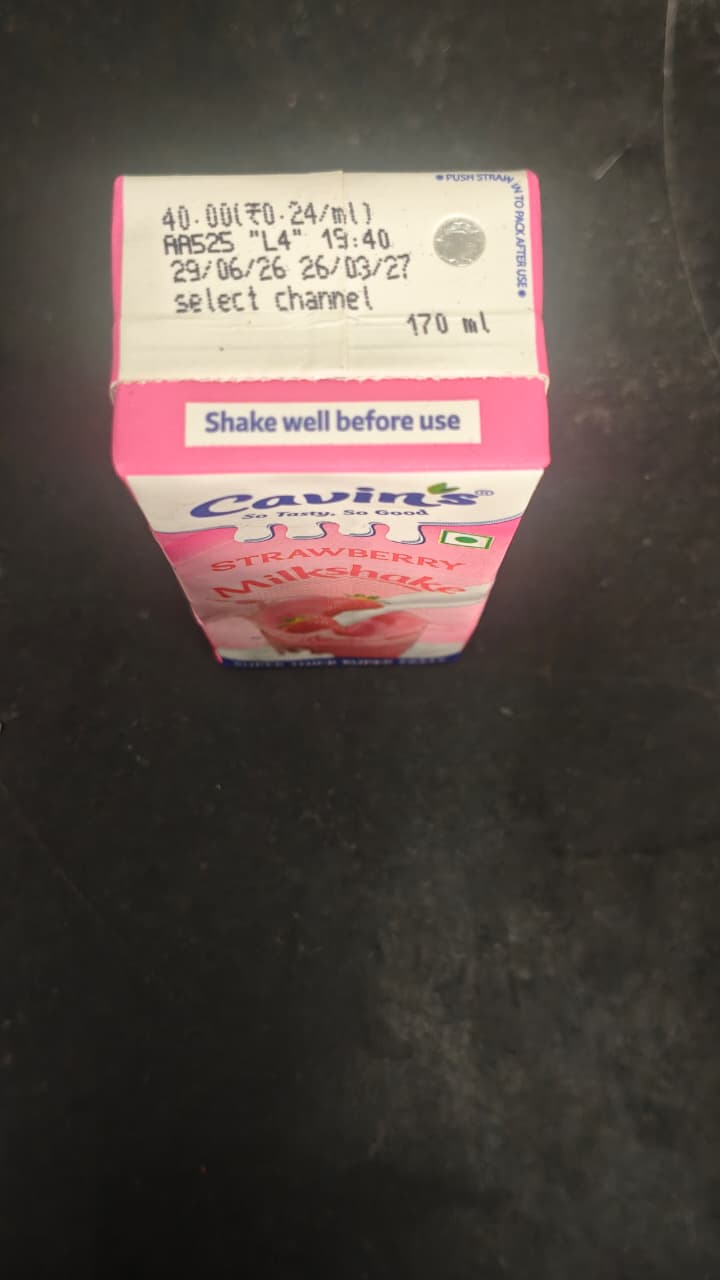Brand: (190, 486, 493, 522)
EXP_Date: (300, 252, 417, 284)
MFG_Date: (162, 256, 295, 286)
MRP: (156, 204, 378, 227)
